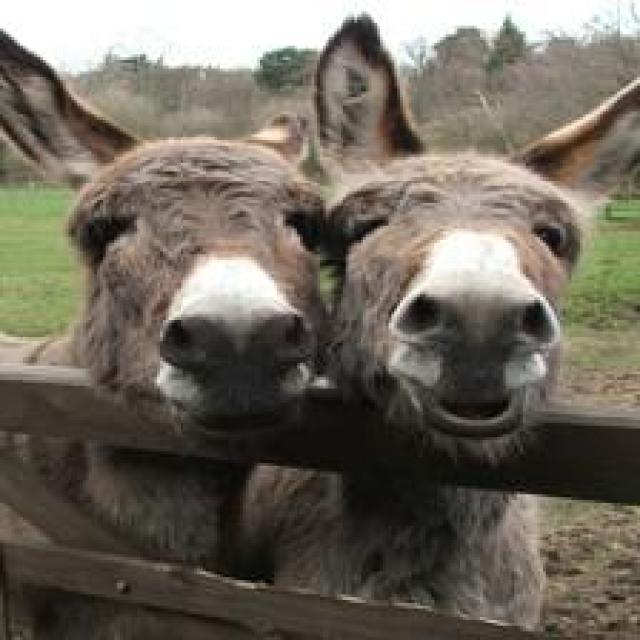Donkey: (232, 12, 637, 637), (0, 14, 334, 637)
